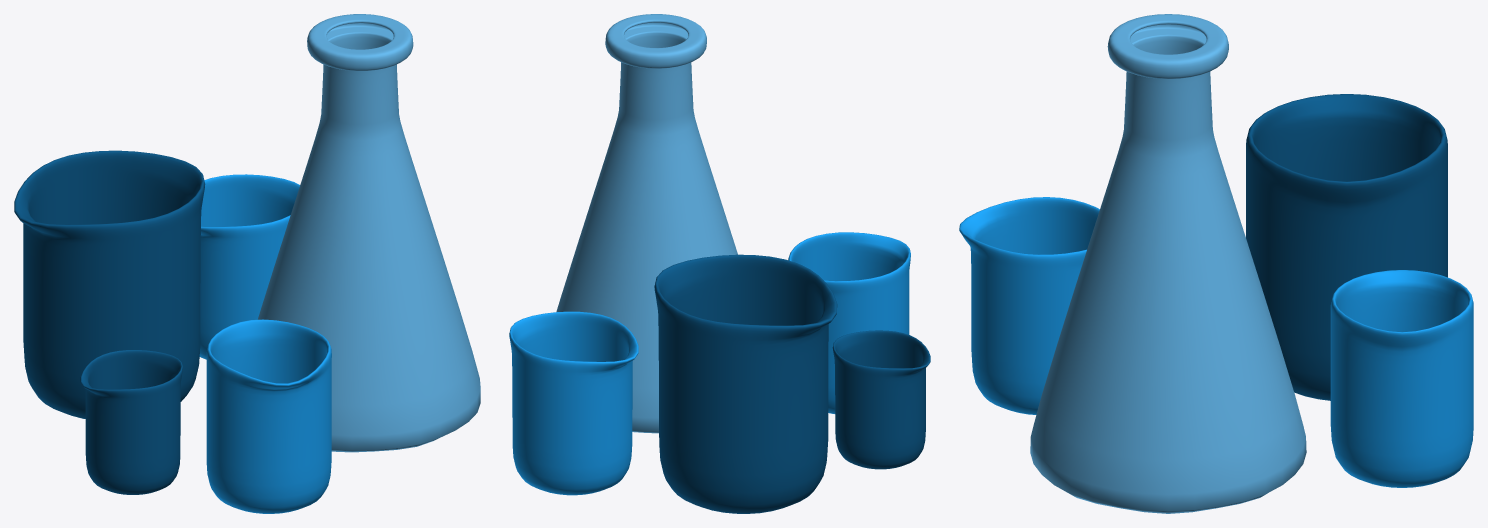
The model's file is Beaker_Group4.glb.
3 views of the same model, side by side, from view 1: azimuth 30°, elevation 25°; view 2: azimuth 150°, elevation 25°; view 3: azimuth 270°, elevation 25° (orthographic). The views are drawn at different scales.
Visible parts, largest first — view 1: pCylinder6, pCylinder2, pCylinder3, pCylinder8, pCylinder9; view 2: pCylinder2, pCylinder6, pCylinder9, pCylinder8, pCylinder3; view 3: pCylinder6, pCylinder2, pCylinder9, pCylinder3.
Part boxes in pixels (<box>): pCylinder6: <box>258,14,480,452</box>; pCylinder2: <box>14,150,205,418</box>; pCylinder3: <box>206,319,331,513</box>; pCylinder8: <box>80,350,182,494</box>; pCylinder9: <box>199,174,299,359</box>; pCylinder2: <box>654,254,837,513</box>; pCylinder6: <box>556,14,737,433</box>; pCylinder9: <box>509,311,638,495</box>; pCylinder8: <box>832,330,930,469</box>; pCylinder3: <box>788,232,910,413</box>; pCylinder6: <box>1030,14,1306,513</box>; pCylinder2: <box>1246,94,1447,400</box>; pCylinder9: <box>1330,270,1473,487</box>; pCylinder3: <box>959,197,1099,414</box>.
Bounding box in the file's own units: 1.25 × 1.21 × 1.27.
